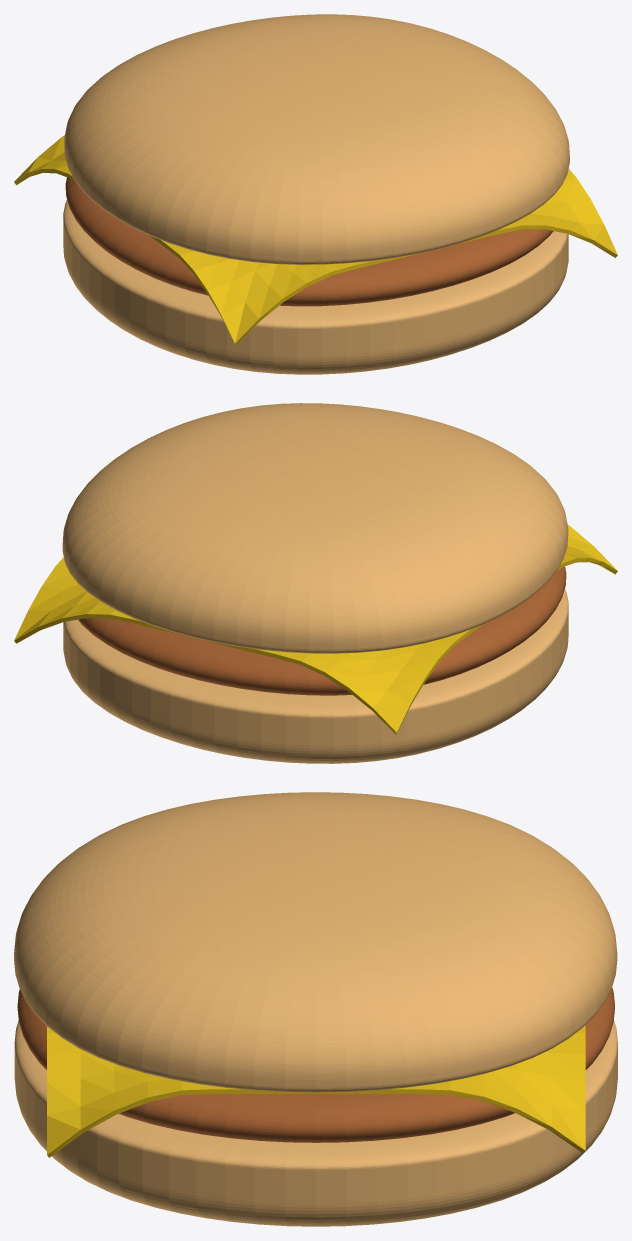
The model's file is hamburger.glb.
The picture shows the model from 3 angles, top to bottom: view 1: azimuth 30°, elevation 25°; view 2: azimuth 150°, elevation 25°; view 3: azimuth 270°, elevation 25°; orthographic projection. The views are drawn at different scales.
Visible parts, largest first — view 1: Cube.002, Cube, Cube.001, Plane; view 2: Cube.002, Cube, Cube.001, Plane; view 3: Cube.002, Cube, Plane, Cube.001.
Boxes of the visible parts, x1=… form: Cube.002: x1=64, y1=14, x2=569, y2=264; Cube: x1=63, y1=200, x2=568, y2=374; Cube.001: x1=65, y1=177, x2=553, y2=306; Plane: x1=14, y1=135, x2=617, y2=345; Cube.002: x1=62, y1=403, x2=568, y2=653; Cube: x1=63, y1=589, x2=568, y2=763; Cube.001: x1=78, y1=566, x2=566, y2=695; Plane: x1=14, y1=525, x2=617, y2=734; Cube.002: x1=14, y1=792, x2=617, y2=1092; Cube: x1=14, y1=1021, x2=617, y2=1226; Plane: x1=47, y1=1025, x2=585, y2=1157; Cube.001: x1=17, y1=987, x2=614, y2=1142.
Size of the model in its own units: 9.15 by 4.51 by 9.14.
